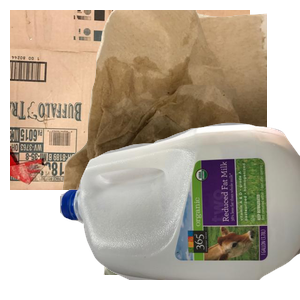cardboard: (10, 10, 250, 190)
glass: (98, 120, 286, 300)
plastic: (60, 120, 300, 300)
trash: (60, 10, 300, 190)
